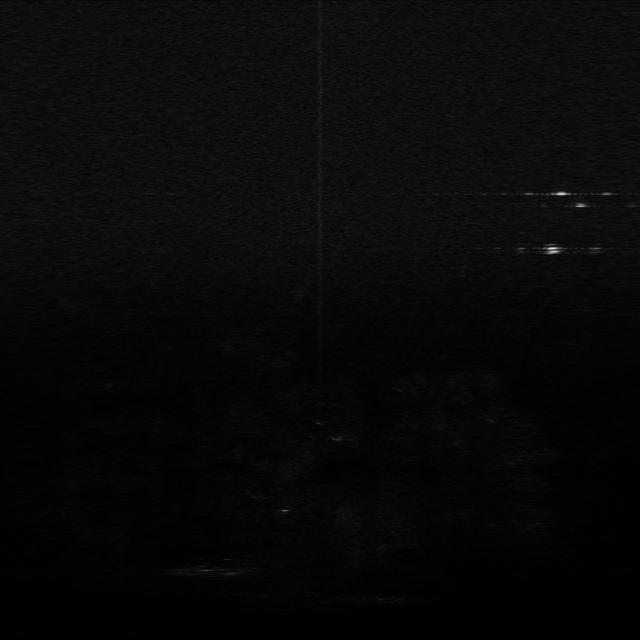rov: (539, 241, 563, 258)
